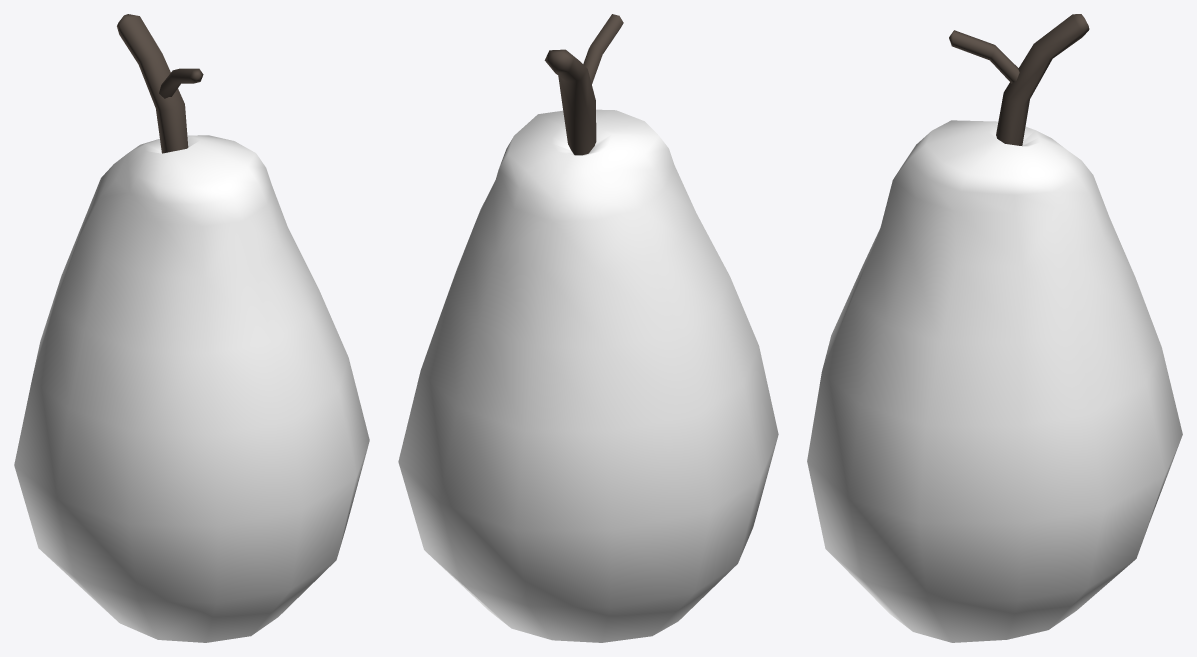
Rendered from SM_Avocado.fbx.
The picture shows the model from 3 angles, left to right: view 1: azimuth 30°, elevation 25°; view 2: azimuth 150°, elevation 25°; view 3: azimuth 270°, elevation 25°; orthographic projection. The views are drawn at different scales.
Visible parts, largest first — view 1: SM_Avocado; view 2: SM_Avocado; view 3: SM_Avocado.
Part boxes in pixels (left/top/right/bottom): SM_Avocado: left=14, top=14, right=369, bottom=642; SM_Avocado: left=398, top=14, right=778, bottom=642; SM_Avocado: left=807, top=14, right=1182, bottom=642.
Size of the model in its own units: 0.0783 by 0.1454 by 0.0832.
